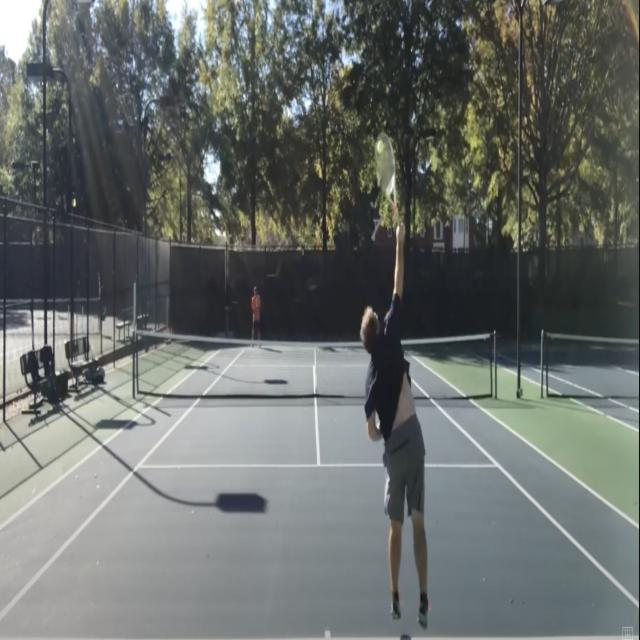ball: (377, 141, 384, 156)
